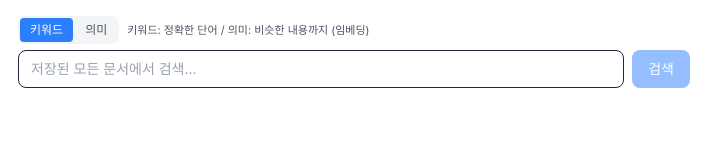
Test: GlobalSearch › 결과 없음 → noResults 안내
The width and height of the screenshot is (707, 160).
Type "없는단어" into the field named "문서 검색" at (321, 69), box [18, 50, 624, 88]
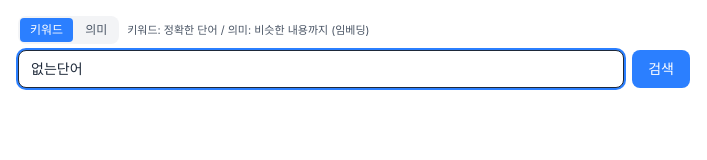
Click the button "검색" at (661, 69), box [632, 50, 690, 88]
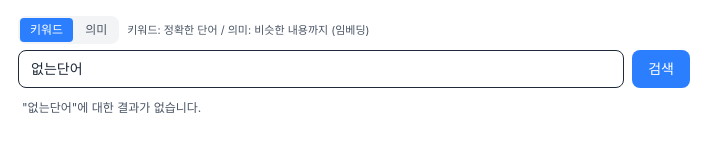
Now the text "\"없는단어\"에 대한 결과가 없습니다." is shown, box [22, 100, 201, 115]
